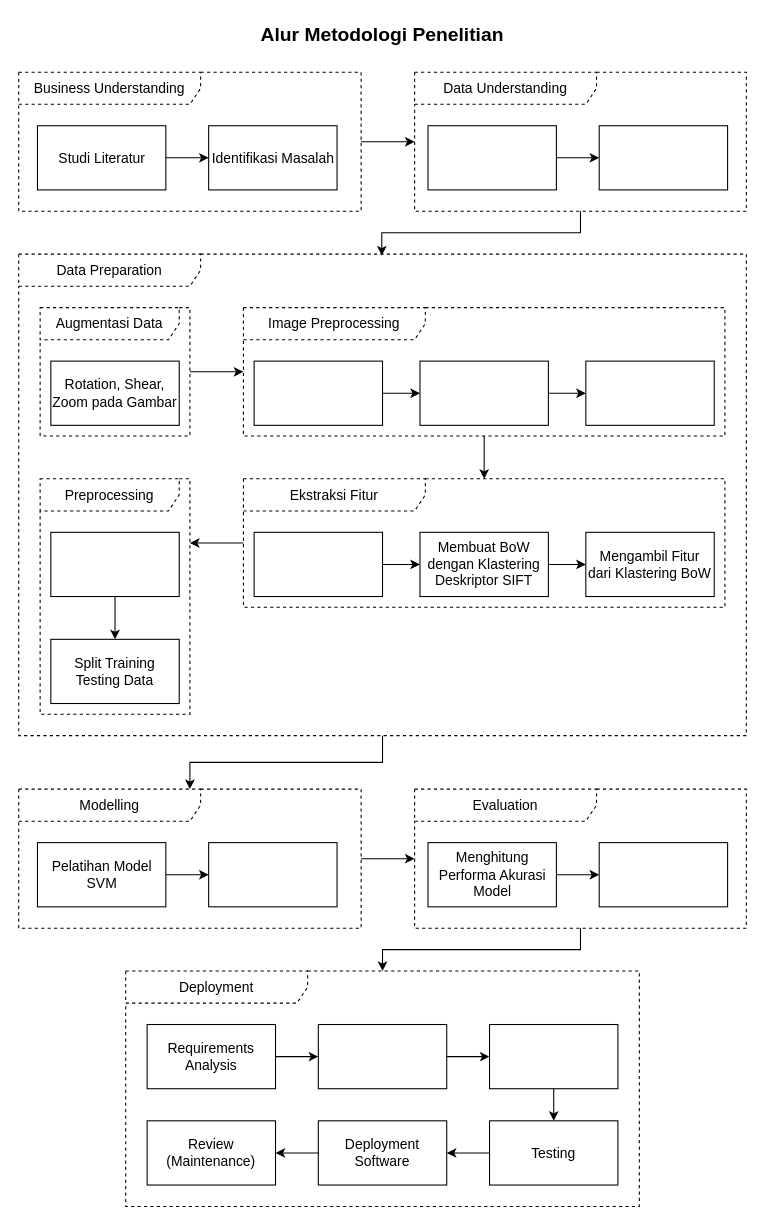
This 765x1225 diagram has some shape labels left out. The shapes that lost their labels are listed below. From the top down, each one's centre as x and y in pixels, then its label:
At point (491, 157): "Pengumpulan Data".
At point (663, 157): "Memahami Data".
At point (318, 392): "Resizing".
At point (483, 392): "Grayscaling".
At point (649, 392): "Equalizing".
At point (114, 564): "Normalisasi".
At point (318, 564): "Ekstraksi Deskriptor dari SIFT".
At point (272, 874): "Optimasi Model (Hyperparameter Tuning)".
At point (663, 874): "Membandingkan SVM-SIFT vs SVM".
At point (382, 1056): "Design Software".
At point (553, 1056): "Development Process".
